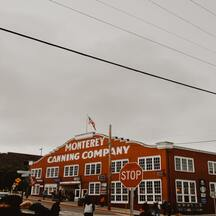Circle: (119, 162, 143, 187)
